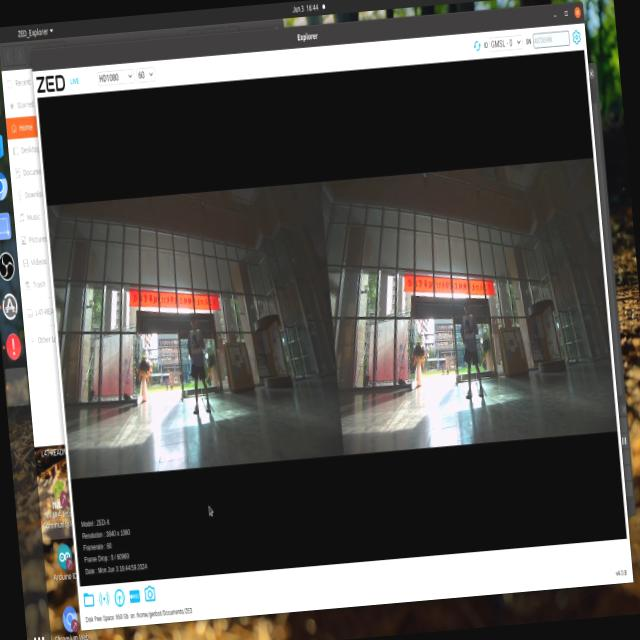blue: (189, 328, 208, 358), (461, 318, 474, 346)
